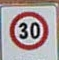limite 30: (8, 9, 49, 50)
